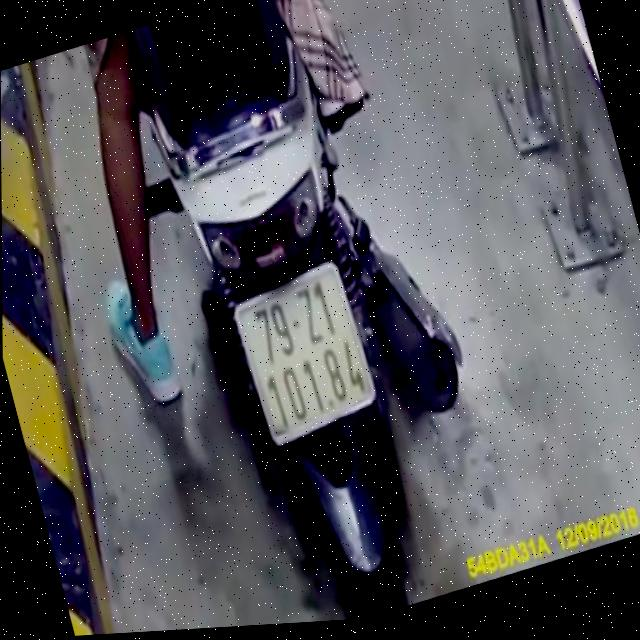motorcycle: (102, 0, 521, 634)
plate: (225, 255, 385, 455)
